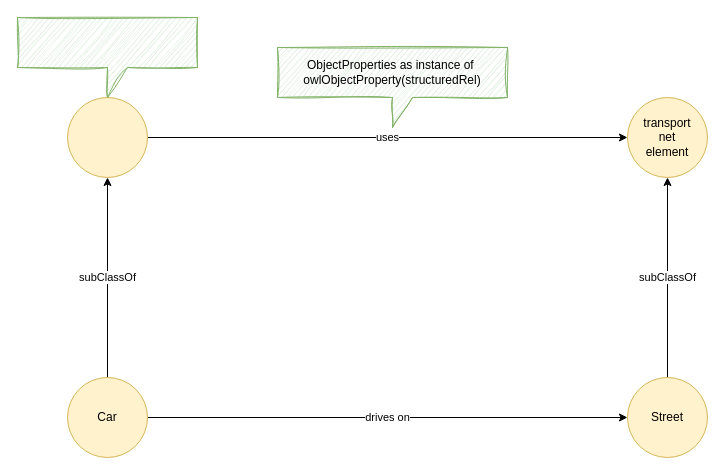
Some shapes in this 725 by 475 pixel diagram are drawn without their labels. Each missing label, with the centre of its shape:
Classes as instance owlClass(StructuredNode): pixel 107 57
Vehicle: pixel 107 137
